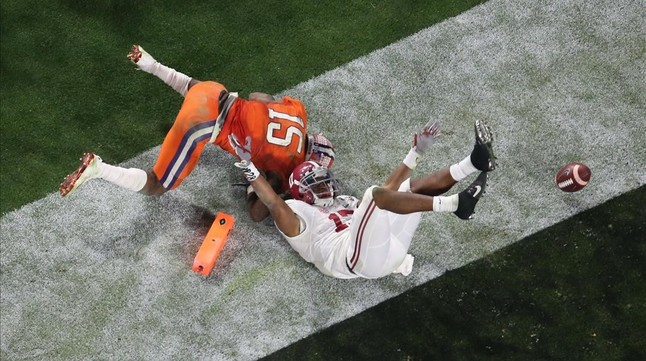futbol americano: (555, 163, 591, 193)
